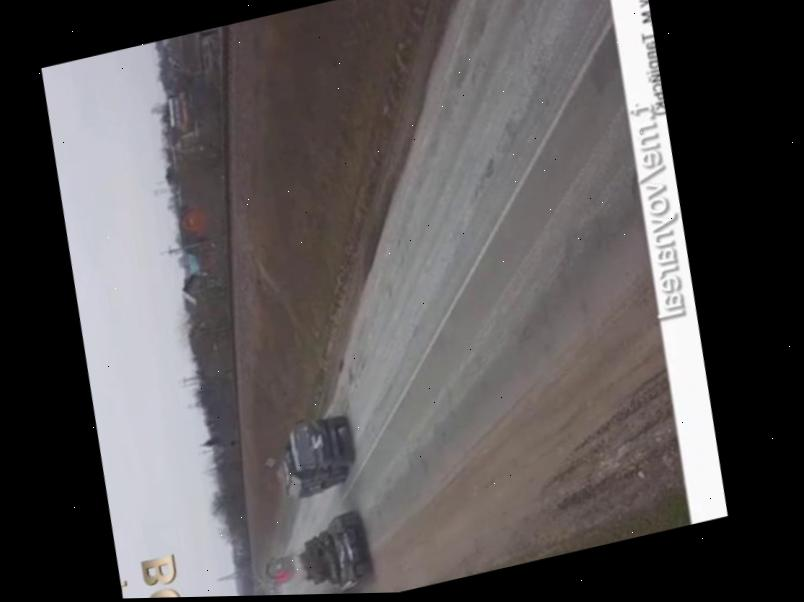tank: (289, 507, 378, 595)
truck: (271, 407, 364, 501), (257, 548, 297, 588)
